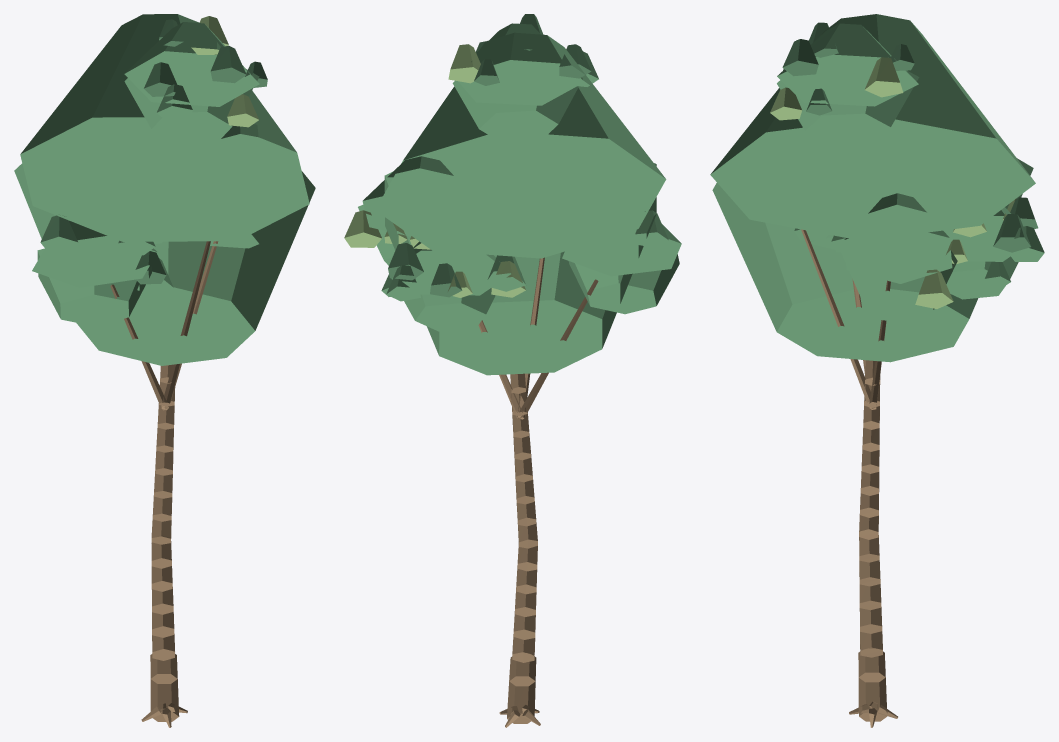
Rendered from oak_young.glb.
The picture shows the model from 3 angles, left to right: view 1: azimuth 30°, elevation 25°; view 2: azimuth 150°, elevation 25°; view 3: azimuth 270°, elevation 25°; orthographic projection. The views are drawn at different scales.
Visible parts, largest first — view 1: Crown#2, Crown, Crown#8, Crown#4, Crown#3, Crown#7, Clump#7, Clump#24, Branch#3, Clump#22, Trunk.Stump, Clump#15 (+10 smaller); view 2: Crown#2, Crown, Crown#8, Crown#7, Crown#4, Crown#3, Crown#9, Crown#10, Crown#6, Clump#23, Clump#20, Trunk.Stump (+9 smaller); view 3: Crown#2, Crown, Crown#8, Crown#6, Crown#7, Crown#5, Crown#9, Crown#10, Clump#20, Clump#23, Clump#24, Trunk.Stump (+8 smaller).
Part boxes in pixels (box(x1,y1,x2,y2)): Crown#2: box(20, 14, 309, 241); Crown: box(14, 163, 315, 365); Crown#8: box(124, 22, 259, 106); Crown#4: box(32, 220, 157, 287); Crown#3: box(37, 248, 151, 326); Crown#7: box(124, 69, 259, 144); Clump#7: box(40, 215, 77, 251); Clump#24: box(210, 45, 246, 83); Branch#3: box(161, 241, 210, 410); Clump#22: box(156, 84, 192, 121); Trunk.Stump: box(150, 679, 179, 721); Clump#15: box(144, 62, 177, 96); Crown#2: box(375, 32, 666, 258); Crown: box(384, 163, 656, 375); Crown#8: box(458, 23, 583, 105); Crown#7: box(452, 77, 582, 142); Crown#4: box(562, 224, 681, 276); Crown#3: box(568, 254, 679, 314); Crown#9: box(391, 278, 495, 332); Crown#10: box(402, 241, 510, 295); Crown#6: box(362, 156, 453, 236); Clump#23: box(344, 210, 381, 247); Clump#20: box(448, 44, 480, 83); Trunk.Stump: box(507, 681, 535, 723); Crown#2: box(710, 14, 1035, 240); Crown: box(712, 158, 1033, 362); Crown#8: box(777, 23, 918, 106); Crown#6: box(844, 193, 952, 283); Crown#7: box(777, 70, 919, 144); Crown#5: box(839, 244, 957, 323); Crown#9: box(946, 256, 1018, 299); Crown#10: box(943, 207, 1017, 261); Clump#20: box(864, 57, 903, 97); Clump#23: box(915, 269, 953, 308); Clump#24: box(782, 39, 818, 76); Trunk.Stump: box(858, 677, 887, 721).
Bounding box in the file's own units: 4 × 9.01 × 3.94.
